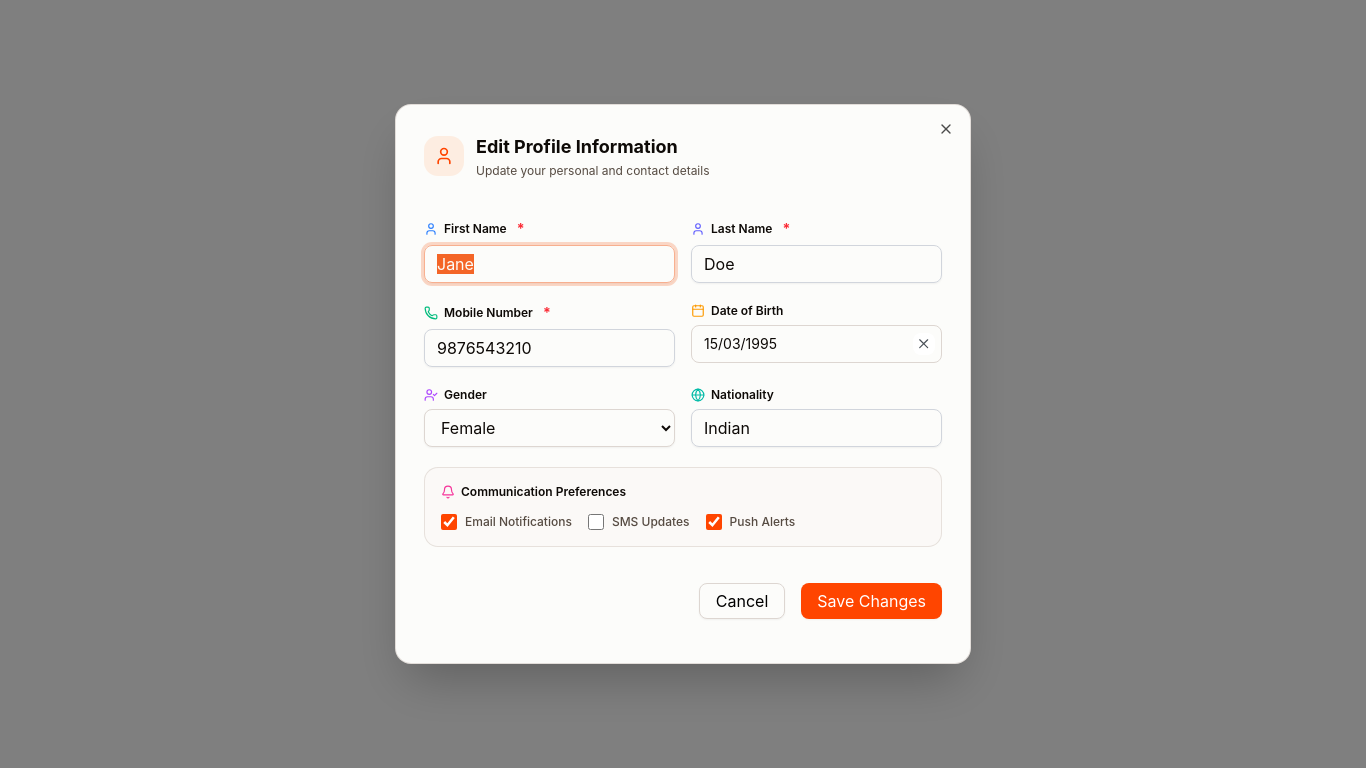
EditProfileDialog › shows validation error when mobile number is invalid
Type "12345" into the field labelled "Mobile Number" at coordinates (550, 348), box [424,329,675,367]
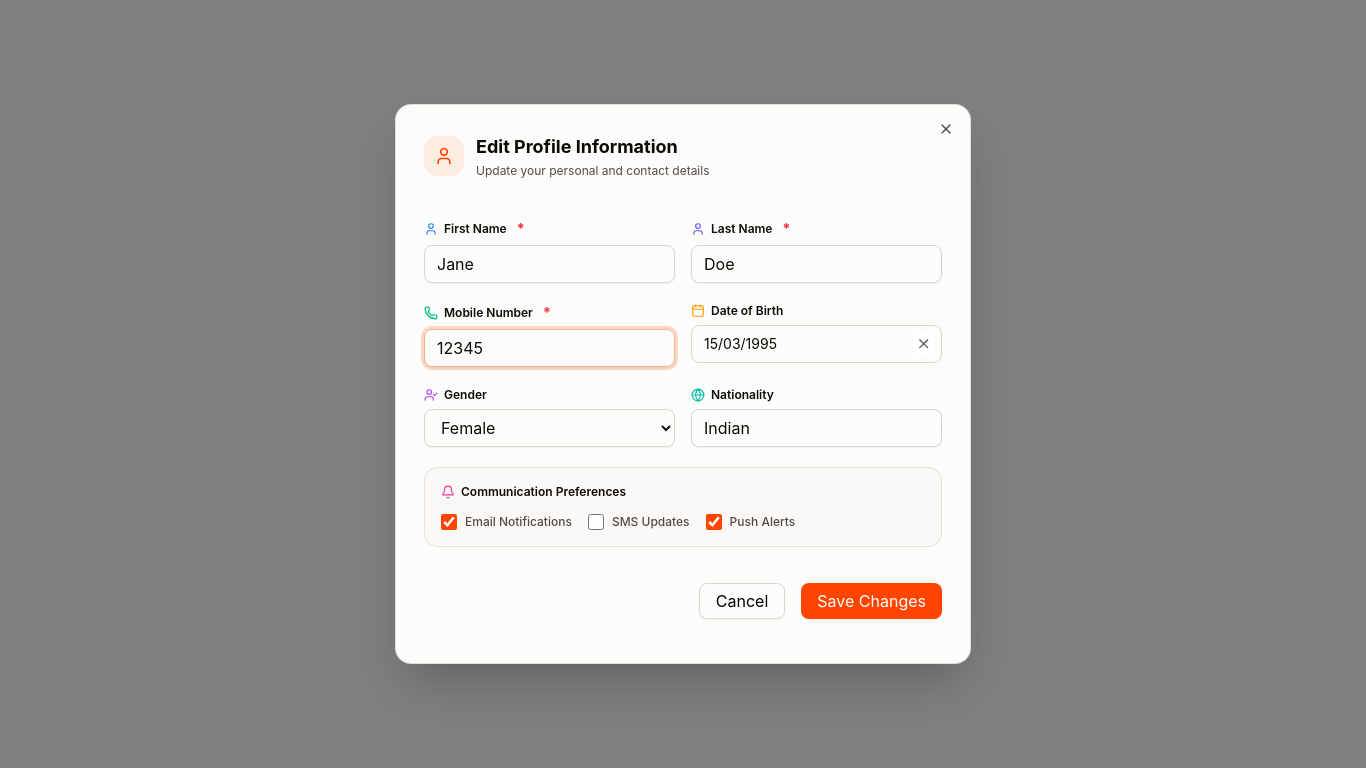
Click the button "Save Changes" at coordinates (872, 601), box [801,583,942,619]
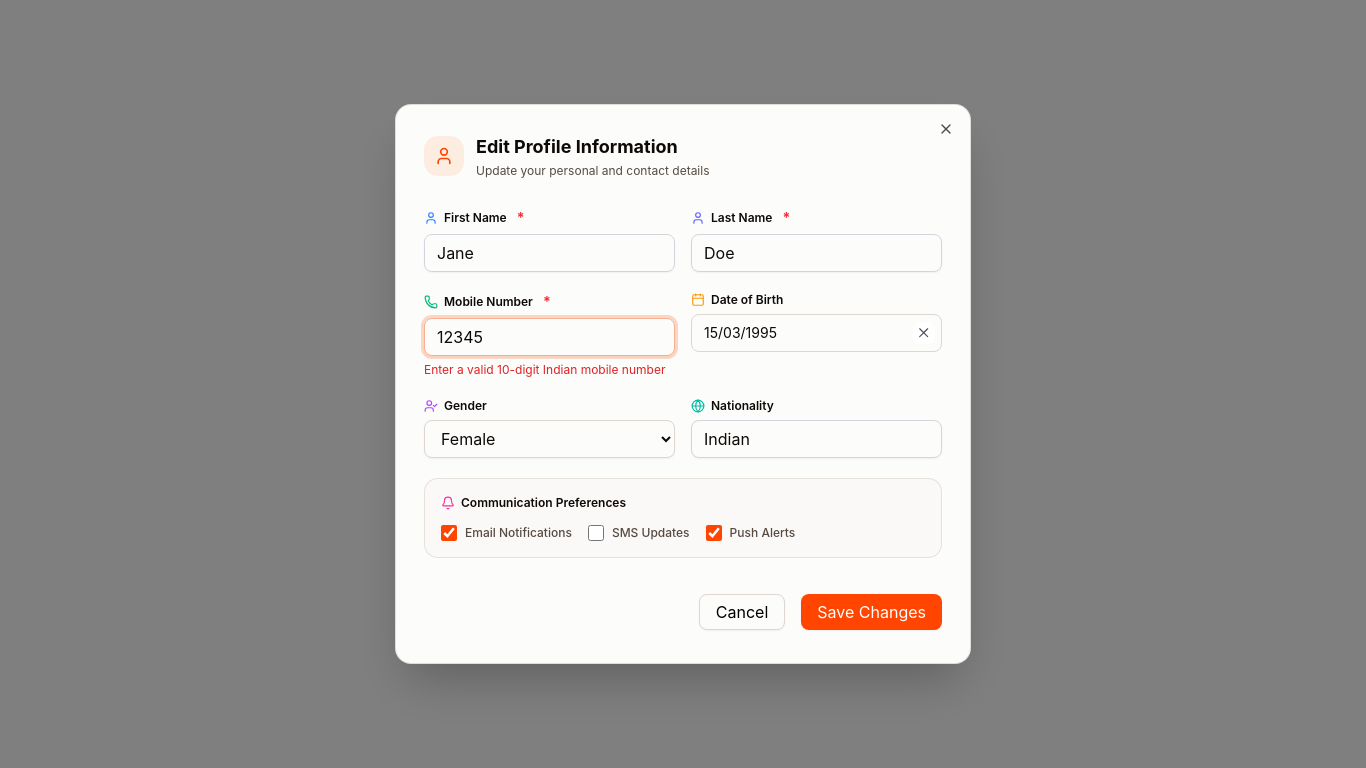
Now the text "Enter a valid 10-digit Indian mobile number" is shown, box [424,362,675,378]
